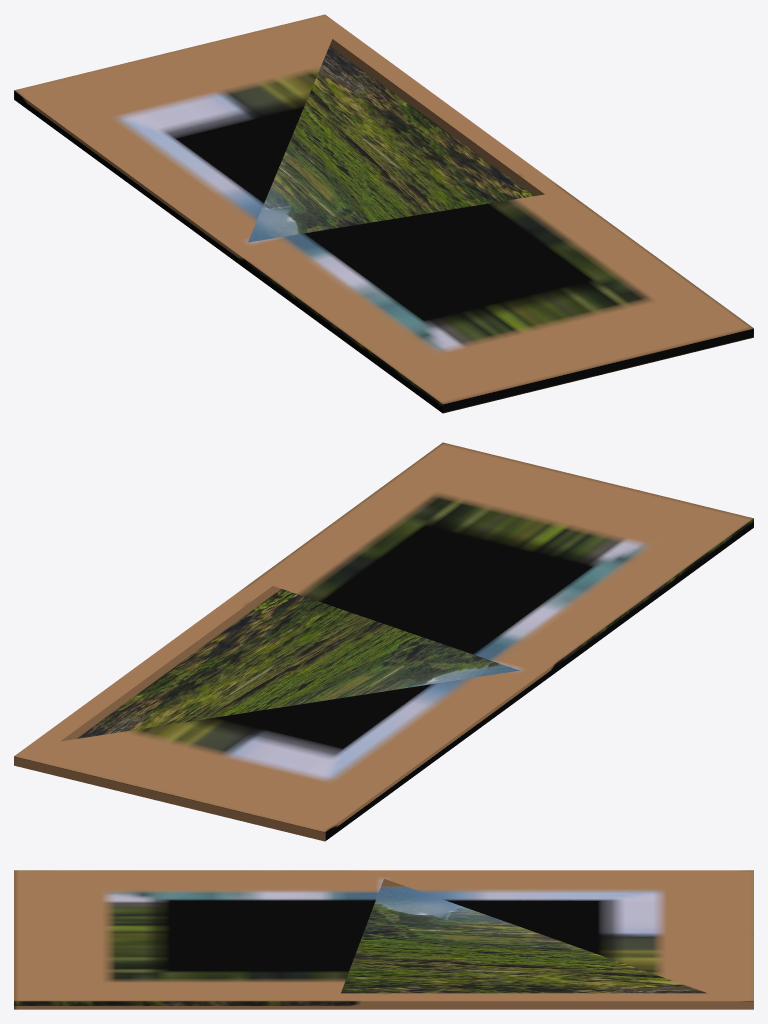
File: Painting.fbx
3 views of the same model, one above another, from view 1: azimuth 30°, elevation 25°; view 2: azimuth 150°, elevation 25°; view 3: azimuth 270°, elevation 25° (orthographic). The views are drawn at different scales.
Parts seen in each view (by area): view 1: Plane; view 2: Plane; view 3: Plane.
Boxes of the visible parts, x1,y1,x2,y2 form: Plane: (14, 14, 753, 413); Plane: (14, 442, 753, 841); Plane: (14, 870, 753, 1009).
Bounding box in the file's own units: 335 × 9.71 × 800.
